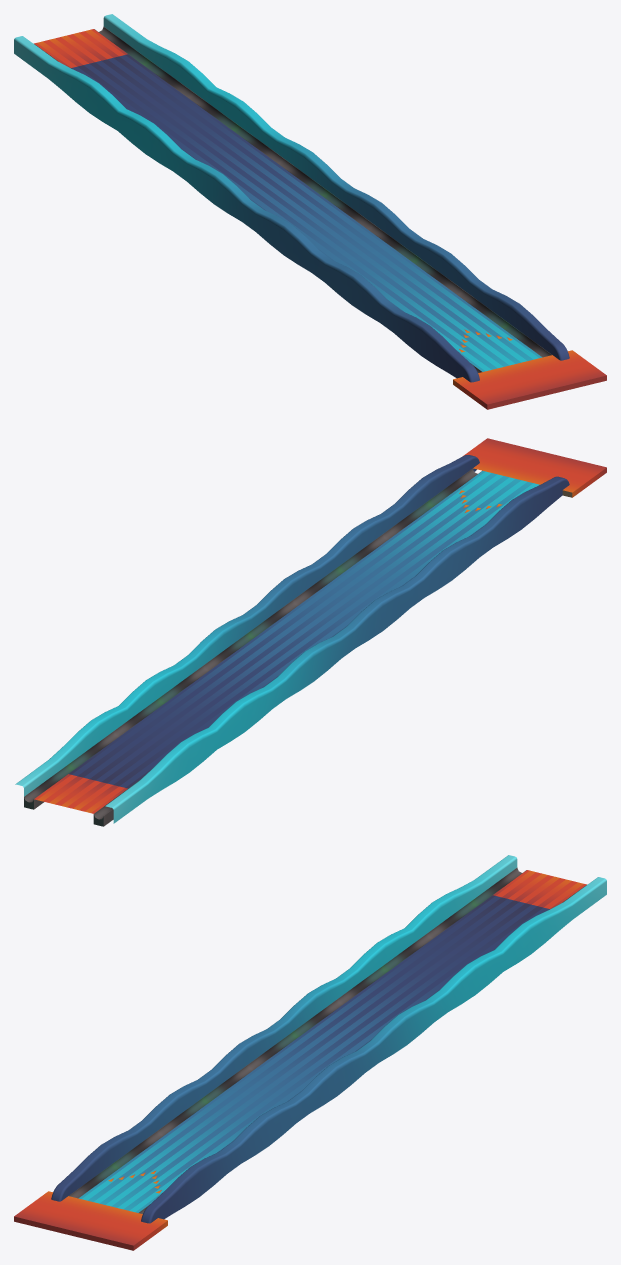
The model's file is lane_blue.gltf.
3 views of the same model, one above another, from view 1: azimuth 30°, elevation 25°; view 2: azimuth 150°, elevation 25°; view 3: azimuth 330°, elevation 25° (orthographic).
Parts seen in each view (by area): view 1: lane_default.walls.001, lane_default.floor.001, lane_default.playerArea.001, lane_default.gutter.001; view 2: lane_default.walls.001, lane_default.floor.001, lane_default.gutter.001, lane_default.playerArea.001; view 3: lane_default.walls.001, lane_default.floor.001, lane_default.playerArea.001, lane_default.gutter.001.
Boxes of the visible parts, <box> form: lane_default.walls.001: <box>14,14,569,382</box>; lane_default.floor.001: <box>34,29,542,371</box>; lane_default.playerArea.001: <box>453,350,606,409</box>; lane_default.gutter.001: <box>34,26,551,372</box>; lane_default.walls.001: <box>15,455,569,823</box>; lane_default.floor.001: <box>34,471,539,813</box>; lane_default.gutter.001: <box>24,468,482,826</box>; lane_default.playerArea.001: <box>463,438,606,497</box>; lane_default.walls.001: <box>51,855,606,1223</box>; lane_default.floor.001: <box>78,870,586,1212</box>; lane_default.playerArea.001: <box>14,1191,167,1250</box>; lane_default.gutter.001: <box>69,867,586,1213</box>.
Size of the model in its own units: 3 by 0.7076 by 21.
Materials: 1 (1 with a texture image).
